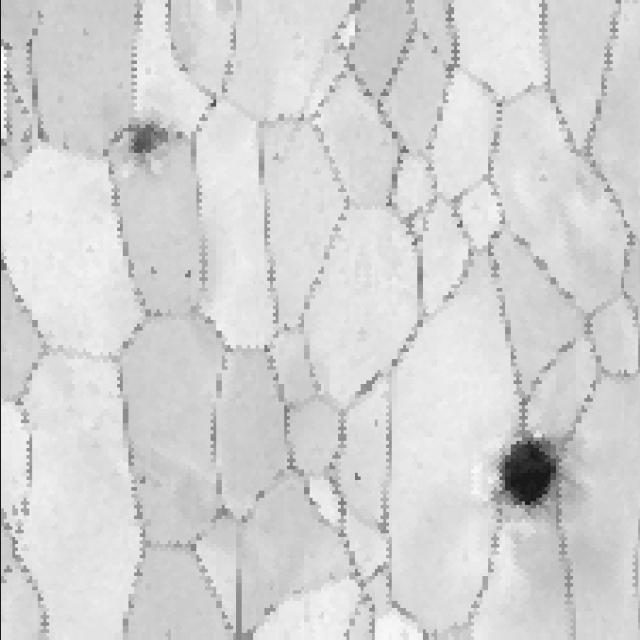good_void: (482, 425, 578, 523), (125, 118, 189, 166), (351, 468, 365, 485), (138, 471, 149, 488), (183, 267, 194, 282)
